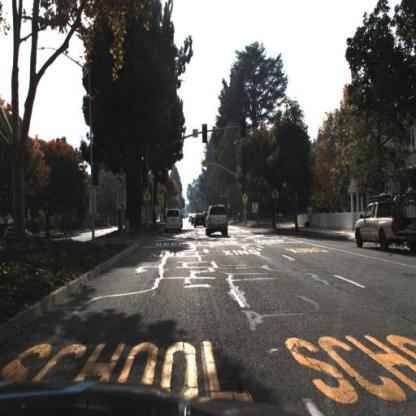car: (357, 198, 416, 252), (204, 200, 230, 235), (163, 206, 184, 235), (6, 225, 33, 243), (195, 213, 208, 229), (190, 214, 197, 224)
pedestrian: (307, 204, 316, 230)
trafficLight-Green: (116, 137, 128, 173), (242, 119, 248, 139), (202, 123, 207, 143), (143, 171, 147, 188)
